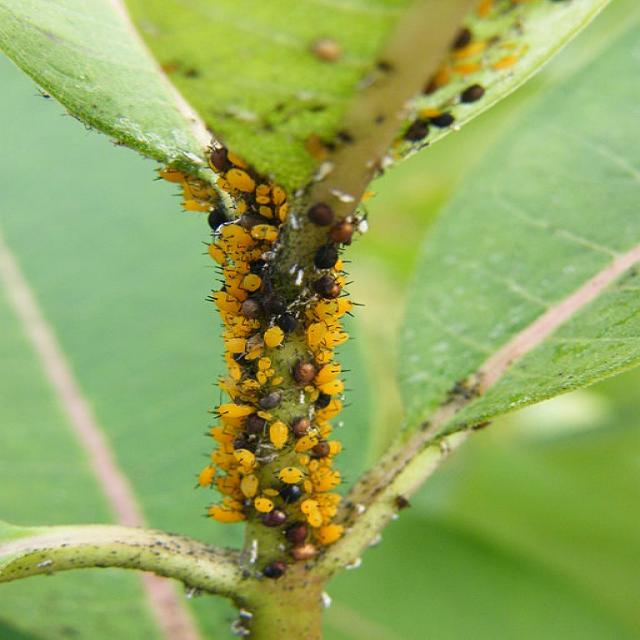Aphid-Grouped-: (183, 140, 365, 558)
